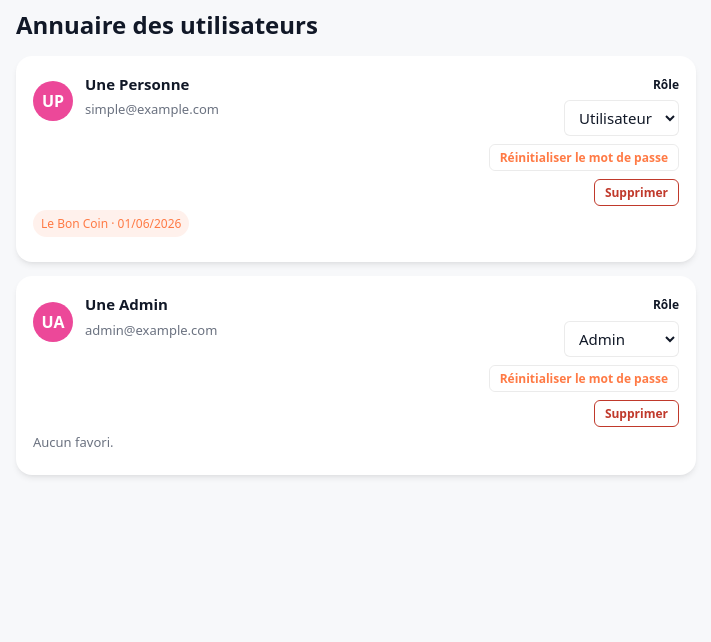
Test case: UtilisateursPage › ouvre et ferme le formulaire de réinitialisation du mot de passe pour un utilisateur
This screenshot has width=711, height=642.
Check: the heading "Une Personne" is shown, box [85, 74, 189, 94]
What coordinates should you click on to do the following:
click the 1st button "Réinitialiser le mot de passe"
I would click on:
 (584, 158)
Its box is [489, 144, 679, 171].
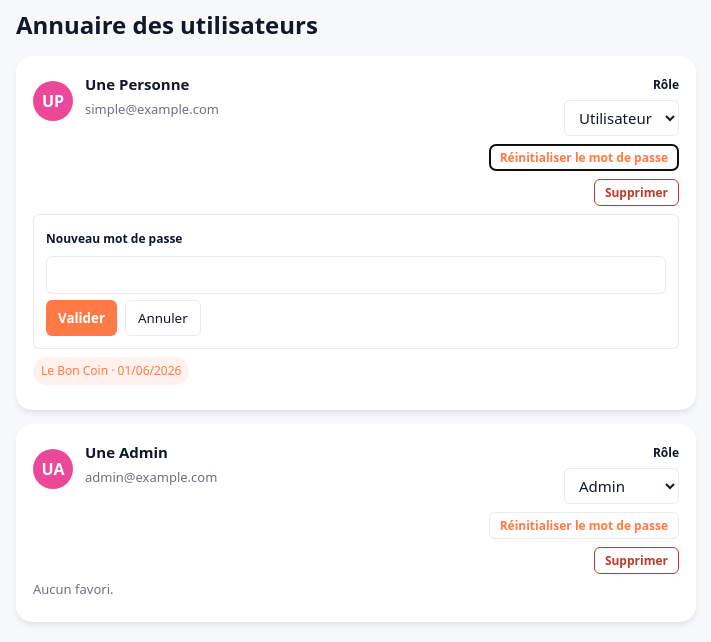
What coordinates should you click on to do the following:
click the button "Annuler"
I would click on:
 (163, 318)
Its box is [125, 300, 201, 336].
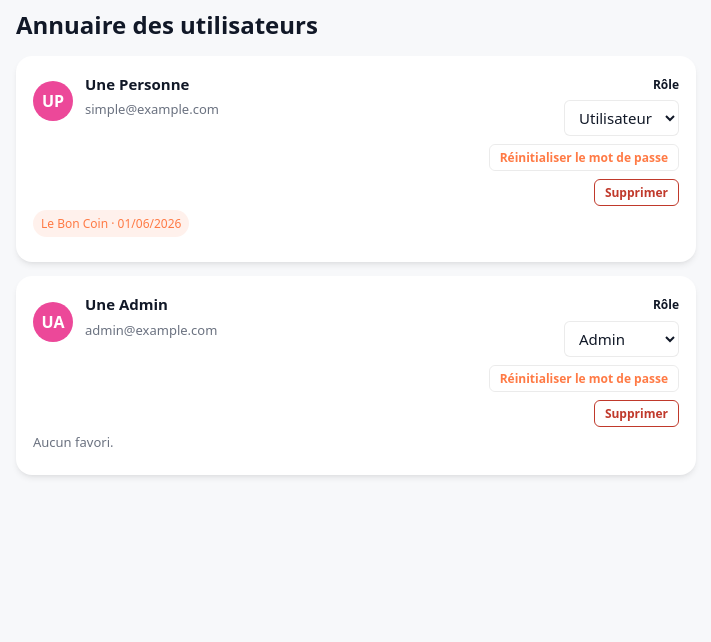
Check: the label labelled "Nouveau mot de passe" is gone
